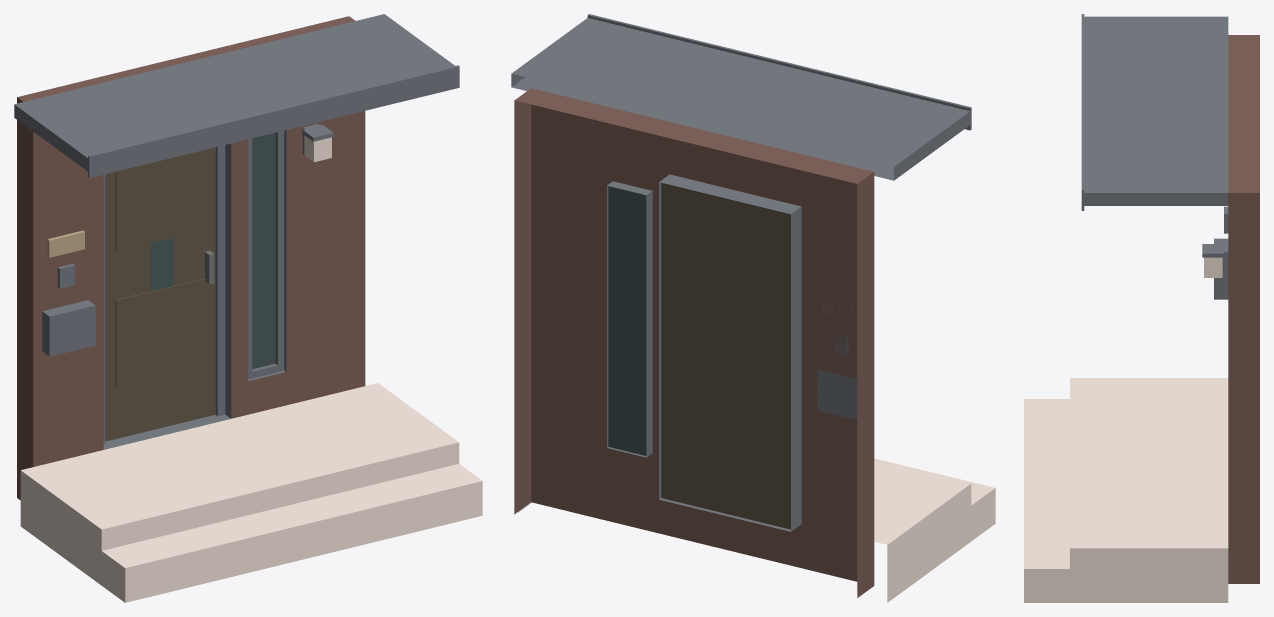
Rendered from entrance_close.fbx.
The picture shows the model from 3 angles, left to right: view 1: azimuth 30°, elevation 25°; view 2: azimuth 150°, elevation 25°; view 3: azimuth 270°, elevation 25°; orthographic projection. The views are drawn at different scales.
Parts seen in each view (by area): view 1: a2000s2/0/entrance_close; view 2: a2000s2/0/entrance_close; view 3: a2000s2/0/entrance_close.
Boxes of the visible parts, left/top/right/bottom form: a2000s2/0/entrance_close: left=14, top=14, right=482, bottom=602; a2000s2/0/entrance_close: left=511, top=14, right=995, bottom=602; a2000s2/0/entrance_close: left=1024, top=14, right=1259, bottom=602.
Size of the model in its own units: 2.9 by 3.19 by 1.64.
